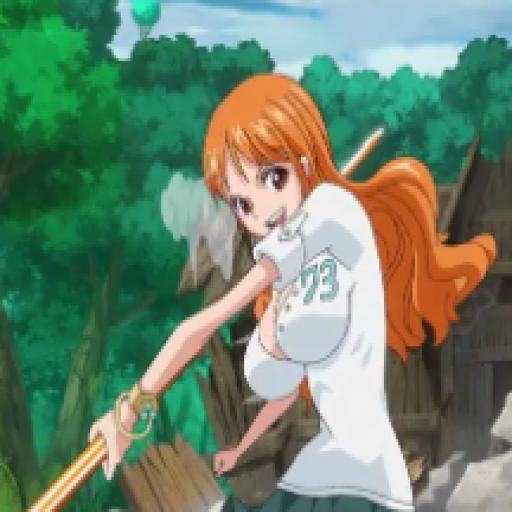Nami: (14, 64, 505, 512)
